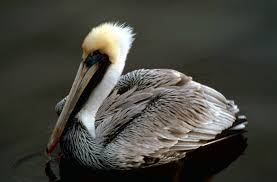pelican: (47, 22, 248, 167)
